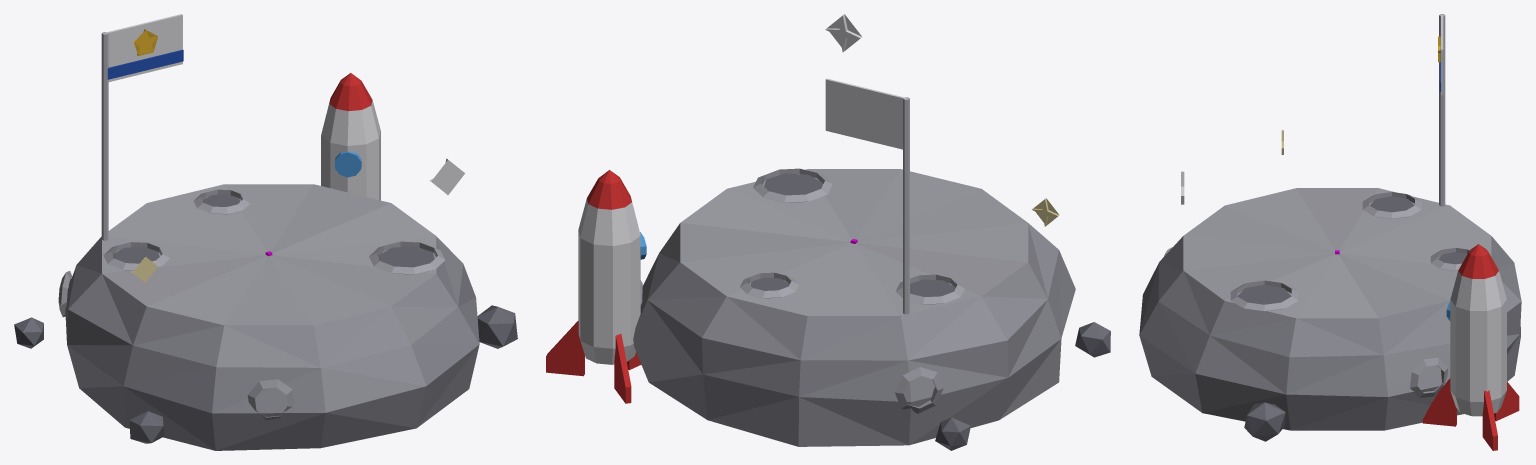
File: Platform_AstronautShiba.fbx
3 renders of one model, left to right at view 1: azimuth 30°, elevation 25°; view 2: azimuth 150°, elevation 25°; view 3: azimuth 270°, elevation 25°, orthographic. The views are drawn at different scales.
Visible parts, largest first — view 1: Body.001; view 2: Body.001; view 3: Body.001.
Part boxes in pixels (x1,y1,x2,y2): Body.001: (14,14,517,450); Body.001: (546,14,1110,450); Body.001: (1139,14,1521,450).
Size of the model in its own units: 9.41 by 7.1 by 8.39.
